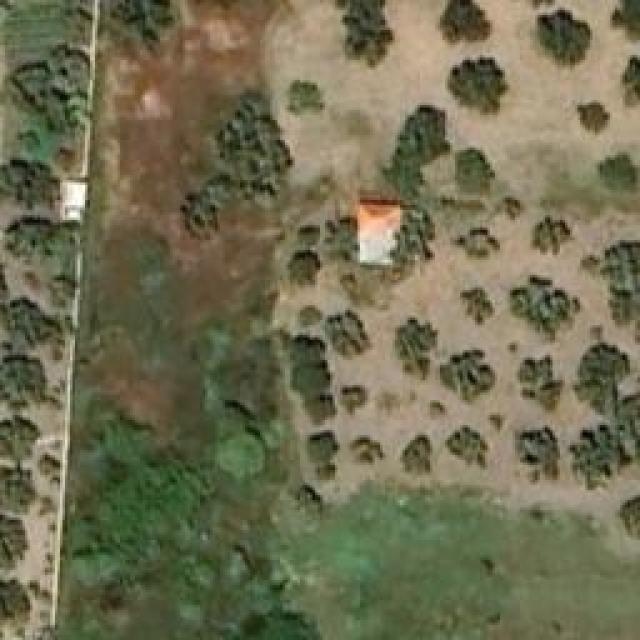Tree: (282, 335, 370, 423), (580, 235, 640, 345), (382, 105, 450, 195), (500, 273, 583, 346), (218, 118, 283, 193), (107, 0, 178, 56), (445, 58, 510, 118), (575, 343, 628, 408), (437, 345, 495, 403), (568, 428, 623, 488), (340, 0, 393, 60), (538, 8, 591, 63), (395, 318, 438, 381), (518, 353, 563, 413), (438, 0, 493, 48), (0, 300, 55, 348), (515, 425, 560, 480), (323, 310, 373, 358), (0, 157, 52, 202), (0, 357, 42, 407), (178, 190, 218, 240), (445, 425, 488, 470), (220, 433, 265, 476), (455, 147, 495, 195), (288, 485, 325, 533), (533, 215, 573, 255), (308, 430, 341, 478), (598, 155, 638, 193), (460, 287, 495, 325), (403, 433, 433, 476), (0, 465, 30, 508), (0, 417, 32, 457), (287, 83, 325, 116), (610, 0, 640, 40), (325, 223, 355, 263), (288, 250, 321, 285), (463, 228, 496, 261), (350, 435, 385, 465), (0, 515, 22, 562), (578, 103, 611, 133), (617, 497, 640, 540), (38, 452, 63, 490), (498, 193, 523, 223), (625, 52, 640, 100), (298, 305, 323, 328), (428, 400, 451, 423), (298, 225, 318, 245), (488, 415, 503, 433)
